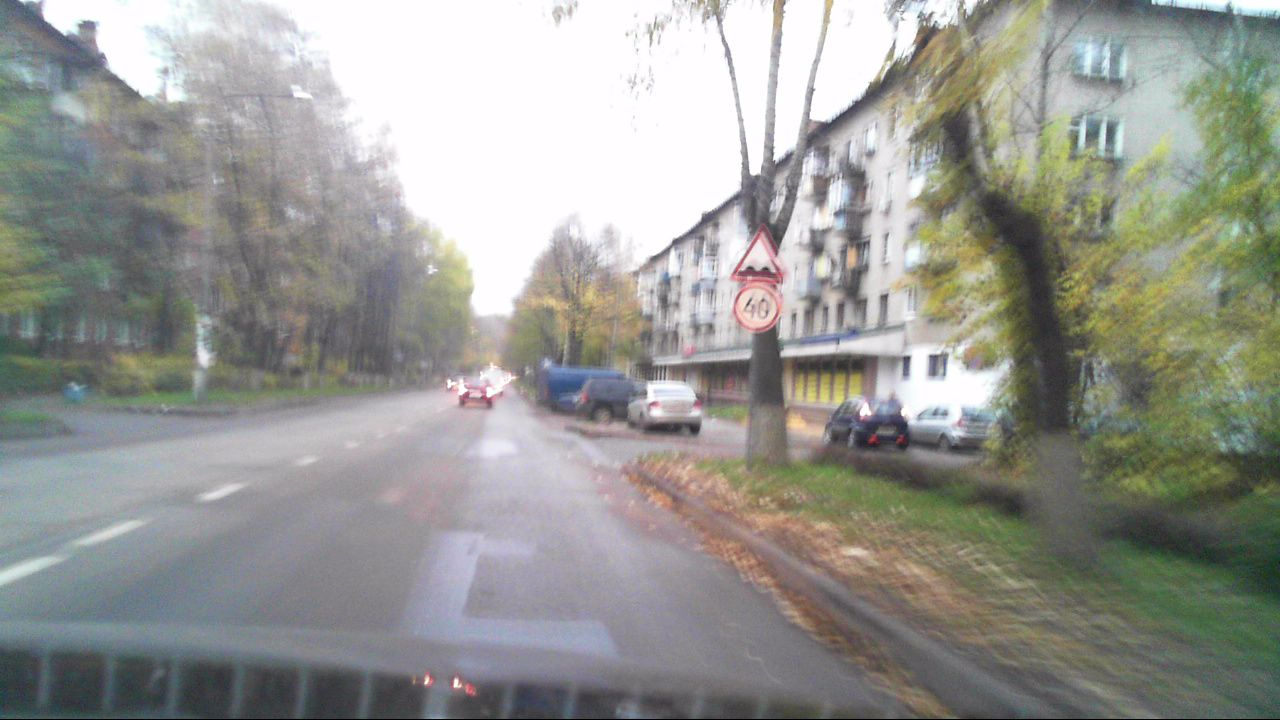speed_warning_40: (735, 286, 781, 332)
